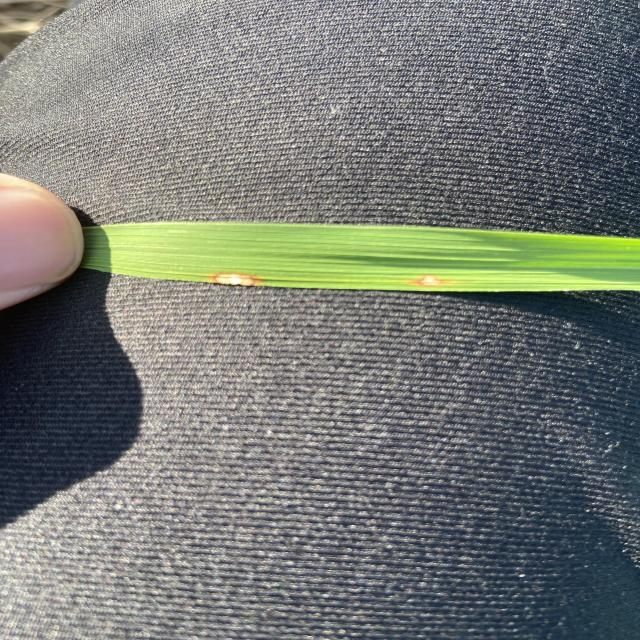Dao on: (208, 273, 259, 286), (418, 275, 443, 286)
